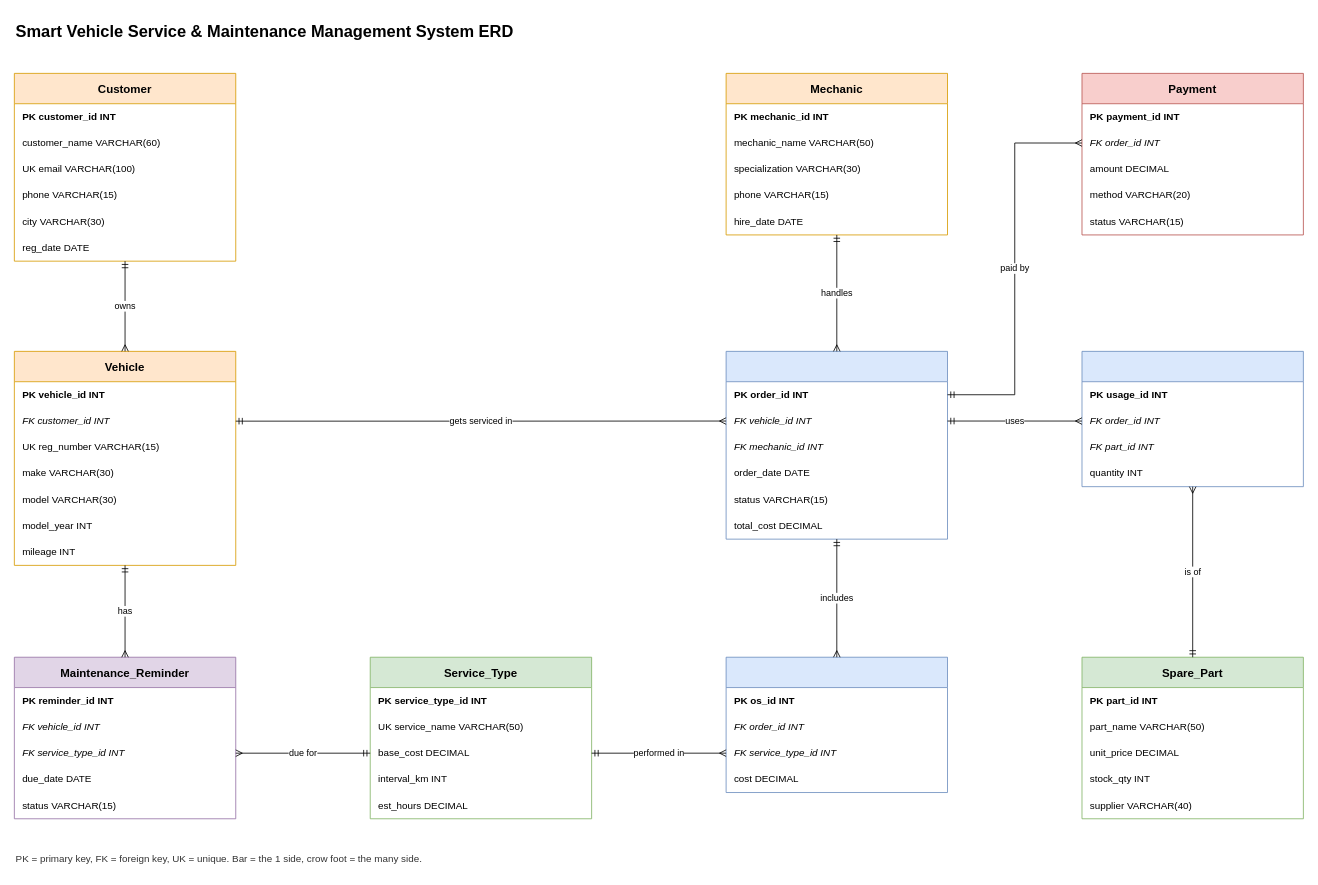
The diagram is 1318 pixels wide and 885 high, and some of its shapes have lost their labels. Here are the shapes that lost their labels. From the top down, the box of each, then its label:
(1081, 351, 1303, 487): Part_Used
(725, 351, 948, 539): Service_Order
(725, 656, 948, 793): Order_Service
